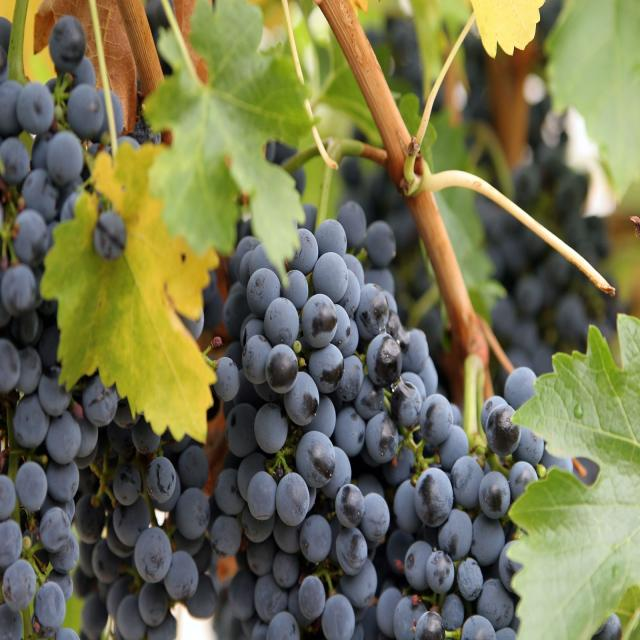grape: (0, 75, 559, 640)
